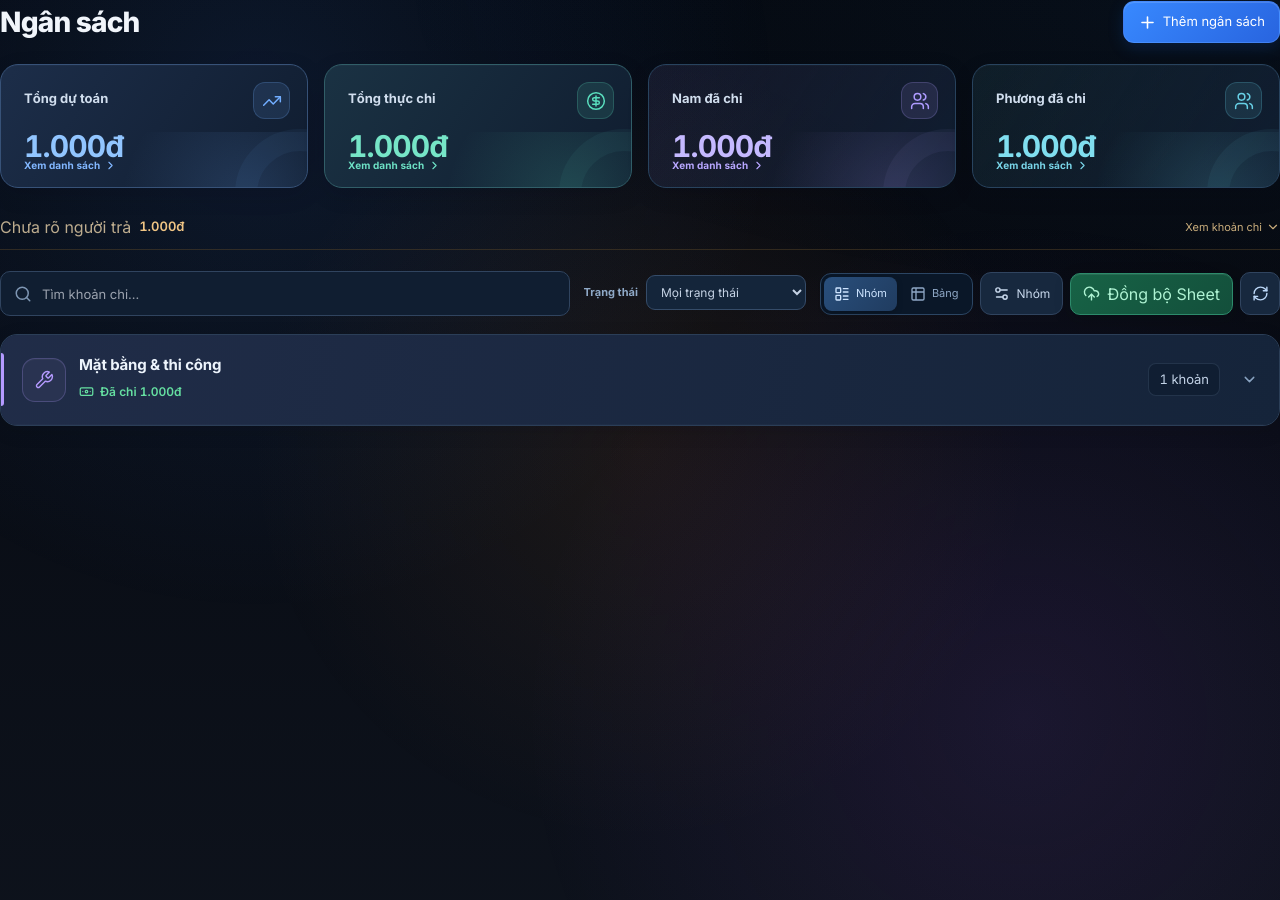
Scenario: Checklist and Budget interactions › shows budget totals in a financial table and opens a row
Click the button with aria-label "Xem tổng dự toán (1.000đ)" at (272, 100), box x1=0 y1=64 x2=308 y2=188
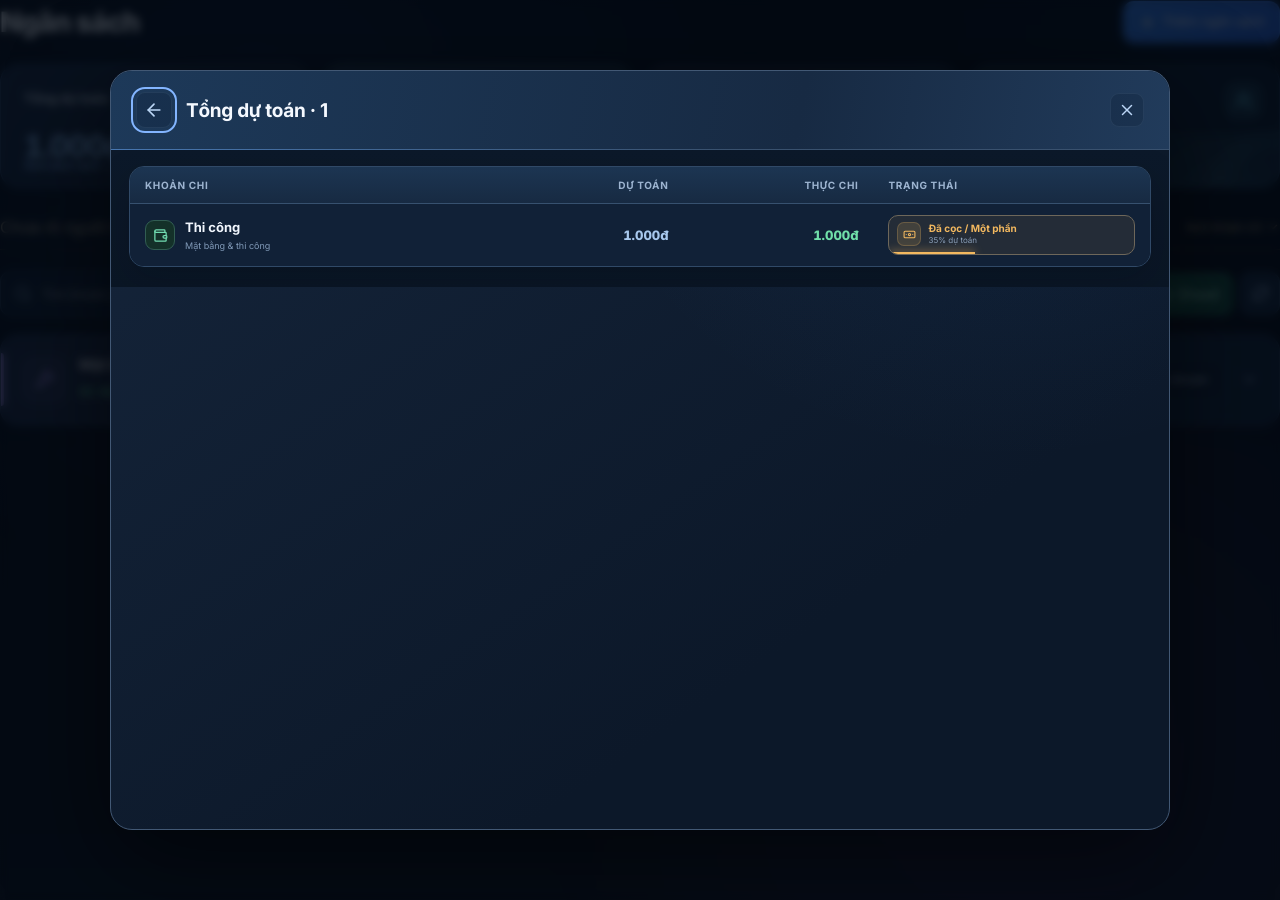
Result: the column headings read "Khoản chi", "Dự toán", "Thực chi", "Trạng thái", in this order at x1=130 y1=167 x2=494 y2=204; x1=494 y1=167 x2=684 y2=204; x1=684 y1=167 x2=874 y2=204; x1=874 y1=167 x2=1150 y2=204
Click the button with aria-label "Mở khoản chi Thi công" at (640, 235), box x1=130 y1=204 x2=1150 y2=266
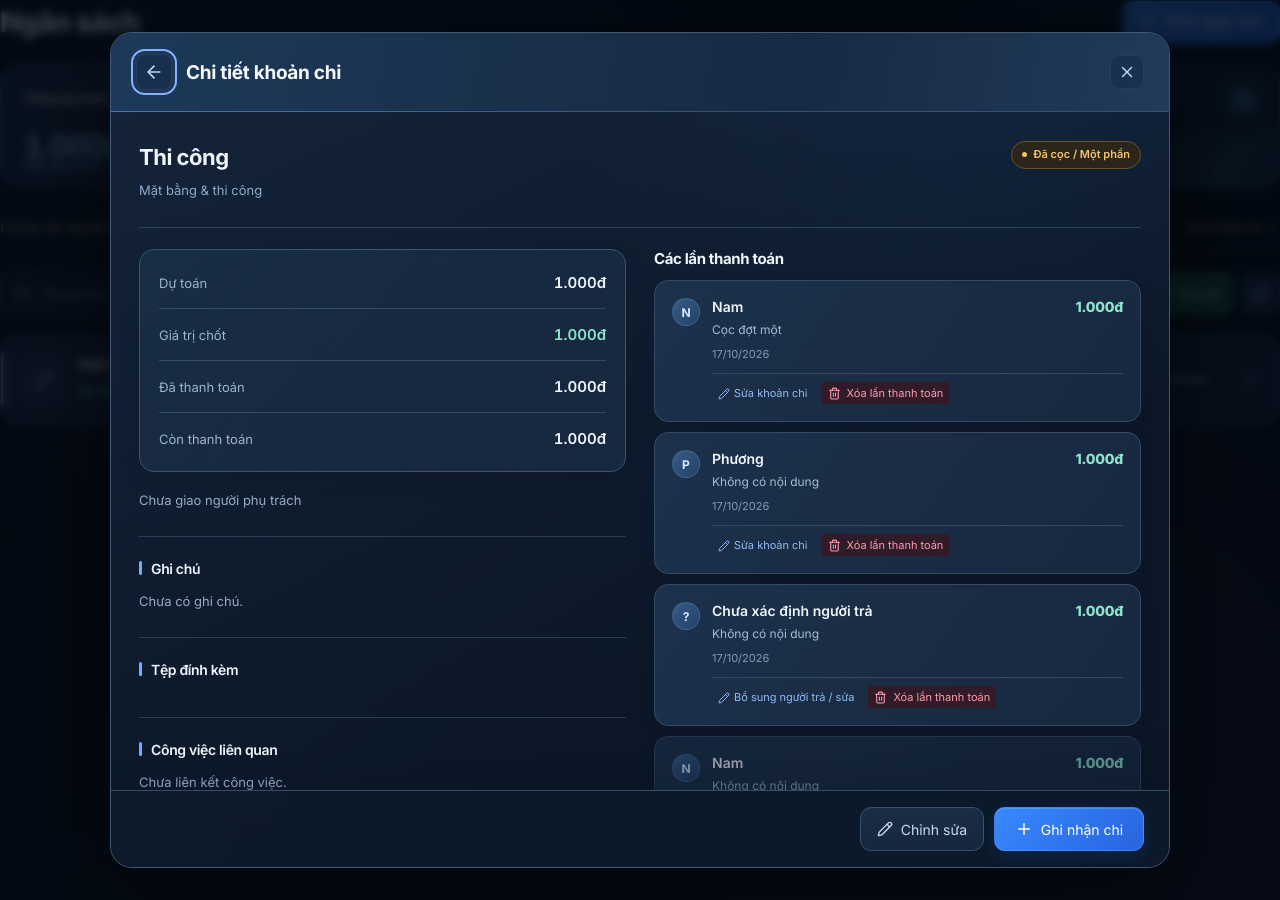
Result: the dialog "Chi tiết khoản chi" is shown
